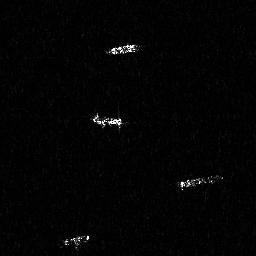ship: (173, 170, 225, 194), (89, 110, 128, 133), (58, 232, 93, 252), (104, 41, 142, 58)
